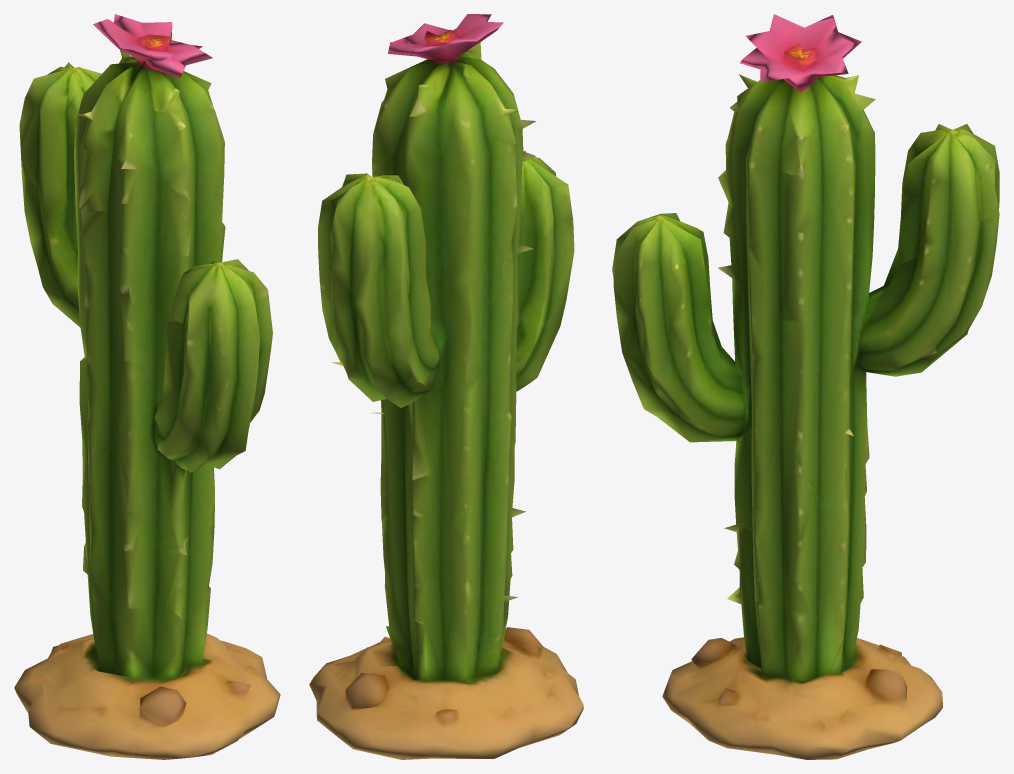
The model's file is cactus.glb.
The picture shows the model from 3 angles, left to right: view 1: azimuth 30°, elevation 25°; view 2: azimuth 150°, elevation 25°; view 3: azimuth 270°, elevation 25°; orthographic projection.
Visible parts, largest first — view 1: tripo_node_747eef08-40d7-444a-b617-502bbadbdfee; view 2: tripo_node_747eef08-40d7-444a-b617-502bbadbdfee; view 3: tripo_node_747eef08-40d7-444a-b617-502bbadbdfee.
Part boxes in pixels (bbox=[...]): tripo_node_747eef08-40d7-444a-b617-502bbadbdfee: bbox=[14, 14, 280, 759]; tripo_node_747eef08-40d7-444a-b617-502bbadbdfee: bbox=[309, 14, 583, 759]; tripo_node_747eef08-40d7-444a-b617-502bbadbdfee: bbox=[612, 14, 999, 759].
Bounding box in the file's own units: 0.3641 × 1 × 0.5207.
1 material, 1 textured.
